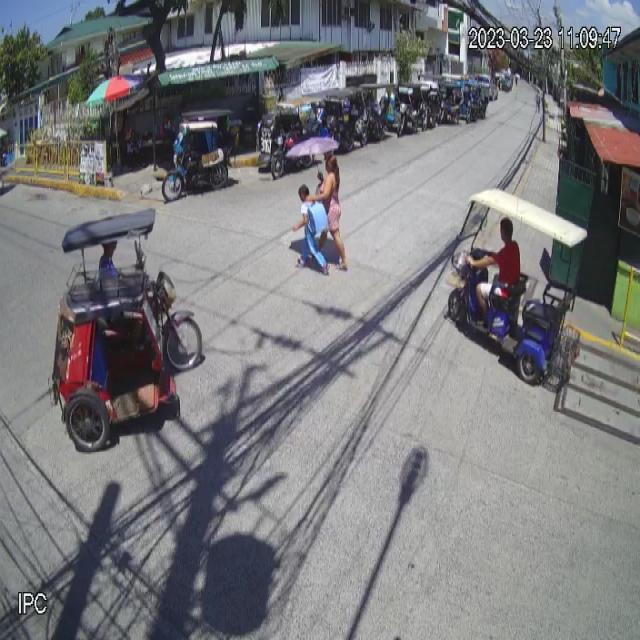Tricycle: (50, 209, 203, 446)
